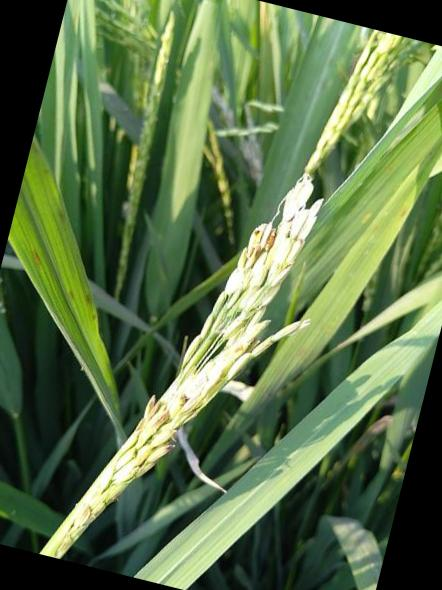Panicle Blight: (54, 505, 90, 558), (132, 396, 167, 450), (246, 222, 276, 266), (135, 444, 174, 477), (222, 335, 254, 361), (176, 390, 190, 411)
